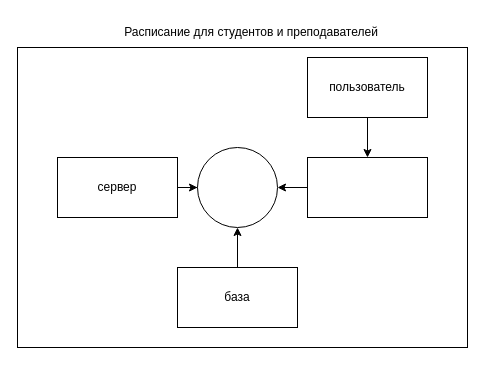
Image size: 485x365. Some labels were removed from this diagram. Each missing label, with the box of its shape:
интернет: (196, 146, 278, 228)
телеграм: (306, 156, 428, 218)
